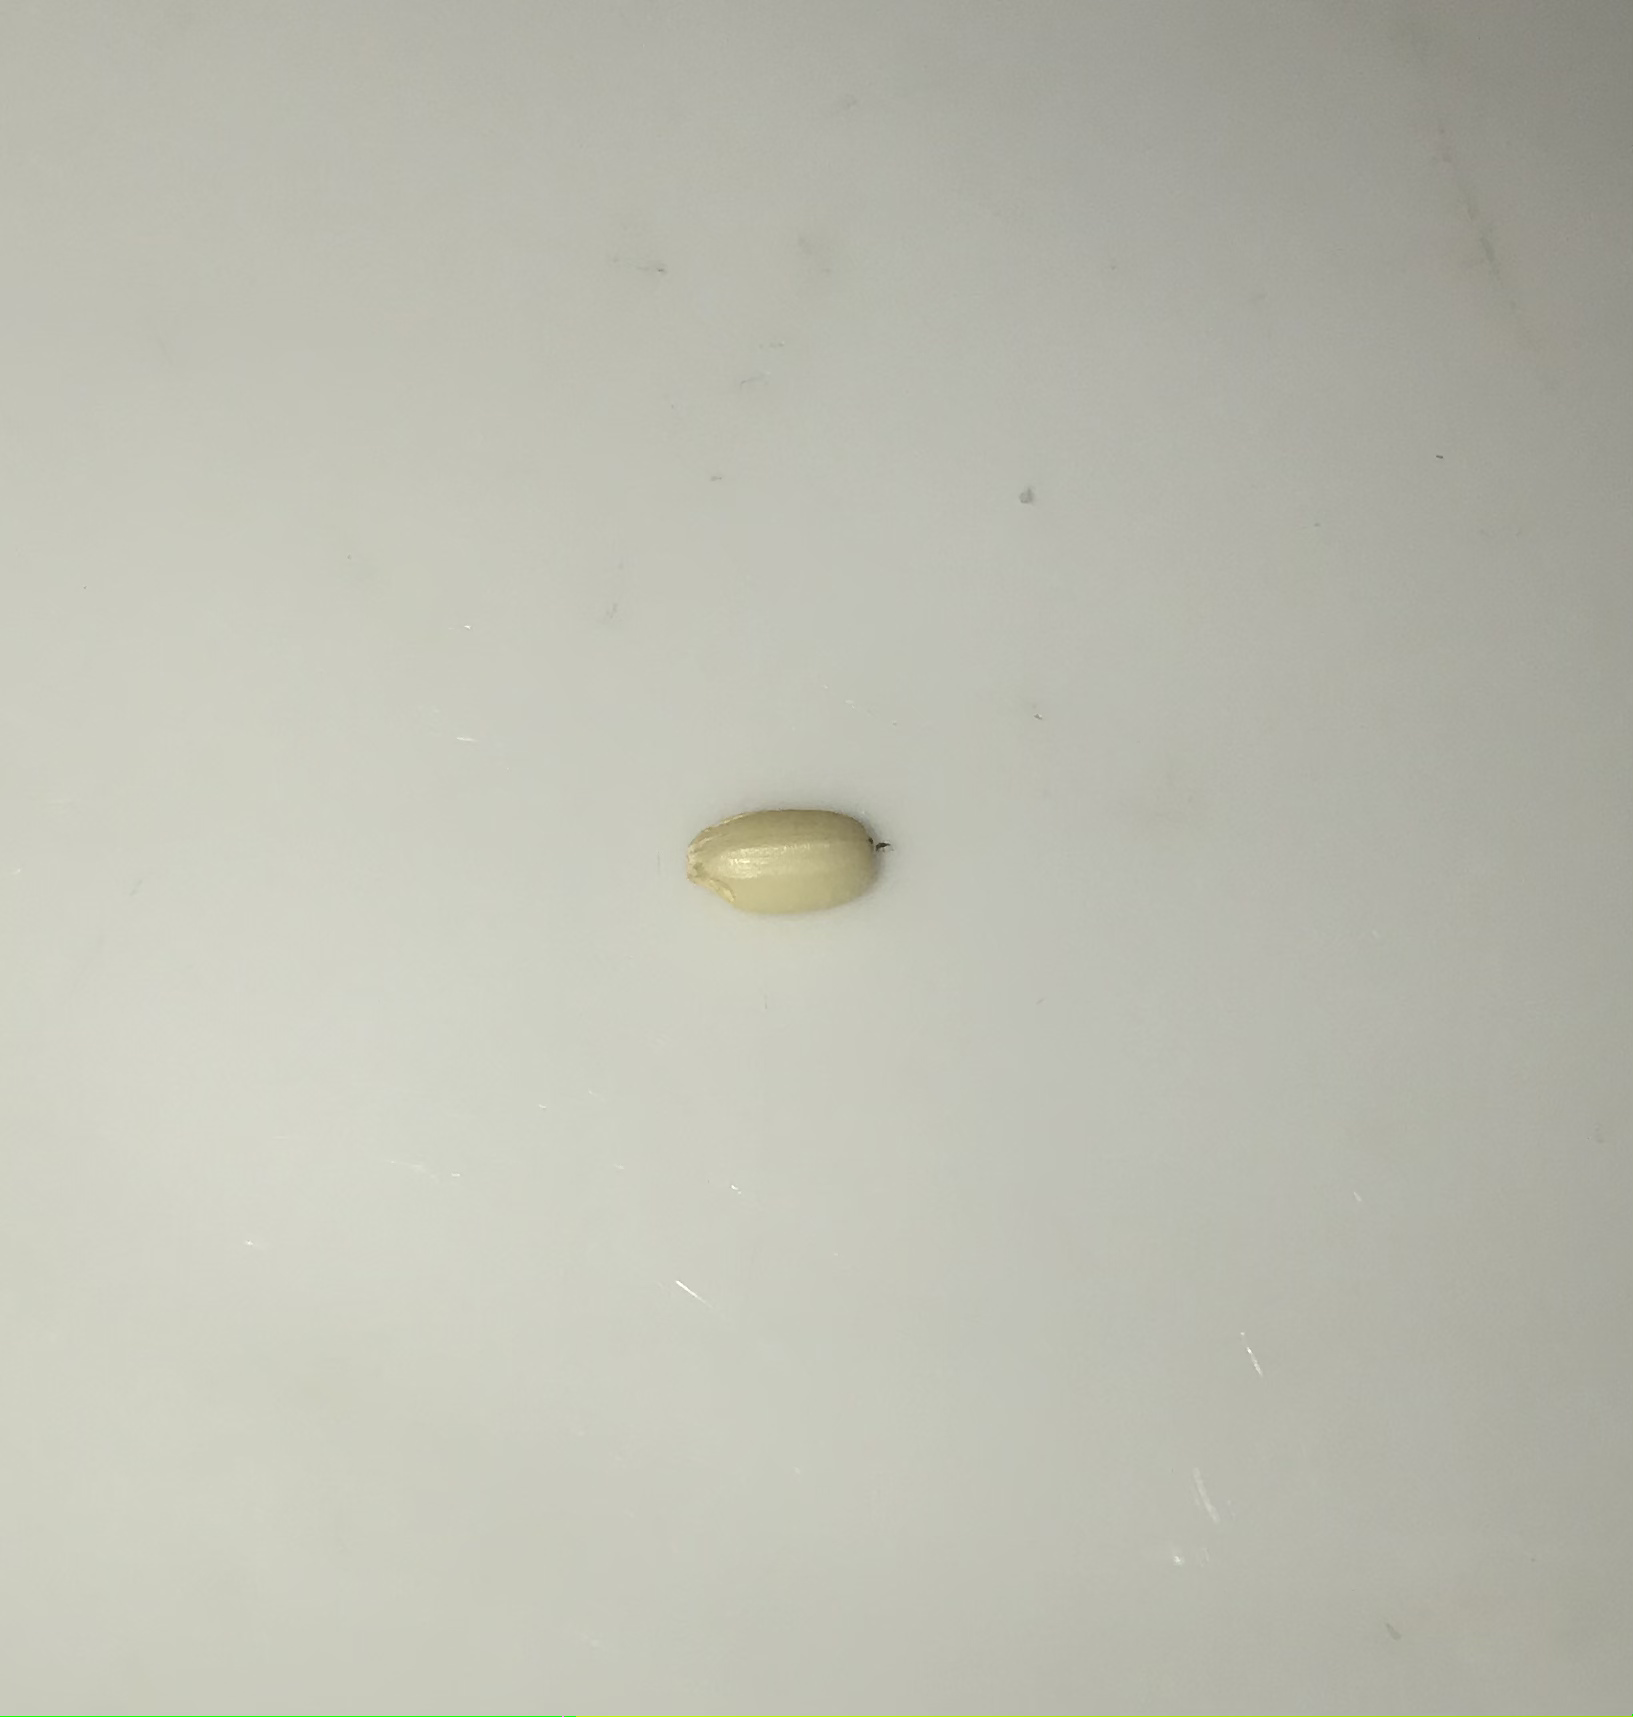Gao Lut Bac: (685, 796, 892, 931)
